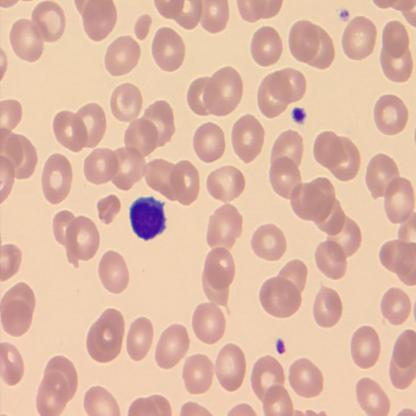Lymphocyte: (128, 194, 166, 242)
